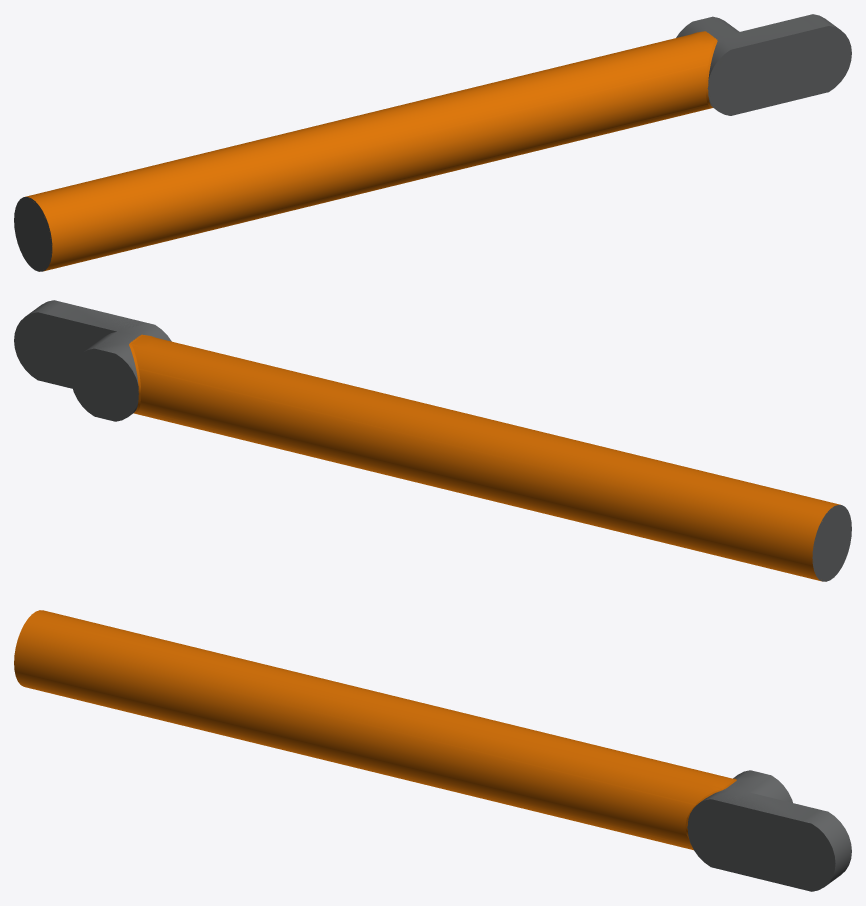
3 views of the same model, one above another, from view 1: azimuth 30°, elevation 25°; view 2: azimuth 150°, elevation 25°; view 3: azimuth 330°, elevation 25° (orthographic). The views are drawn at different scales.
Parts seen in each view (by area): view 1: b4_LOD0, b4_col; view 2: b4_LOD0, b4_col; view 3: b4_LOD0, b4_col.
Boxes of the visible parts, x1=… form: b4_LOD0: x1=14, y1=14, x2=851, y2=271; b4_col: x1=14, y1=14, x2=851, y2=271; b4_LOD0: x1=14, y1=300, x2=851, y2=581; b4_col: x1=15, y1=300, x2=851, y2=581; b4_LOD0: x1=14, y1=610, x2=851, y2=891; b4_col: x1=67, y1=651, x2=832, y2=890.
Size of what is drawn, in the model's own units: 144 by 11.93 by 12.
